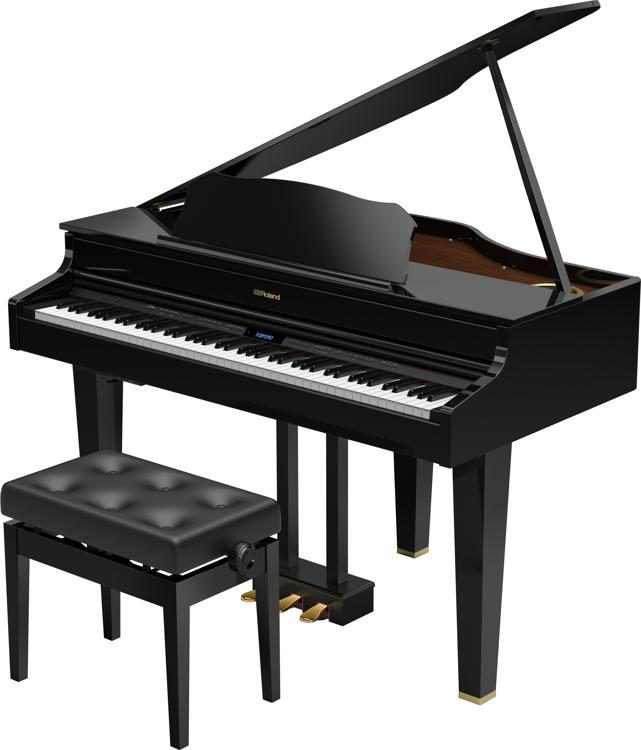GrandPiano: (31, 175, 627, 441)
